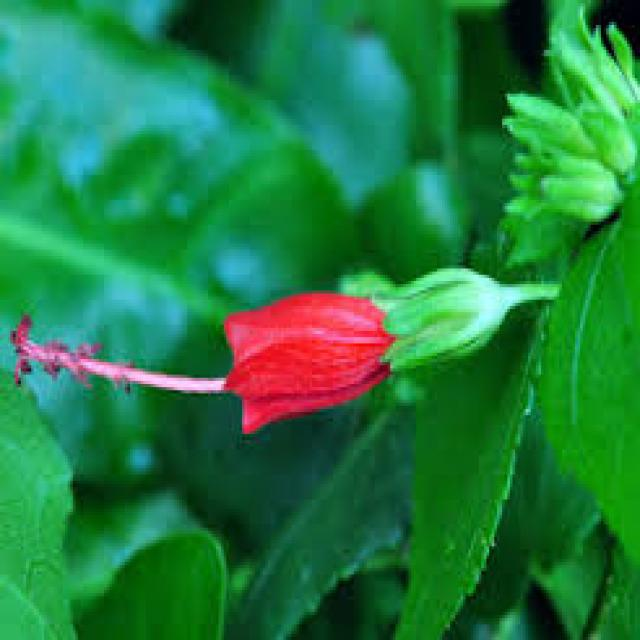Flower: (29, 69, 494, 587)
